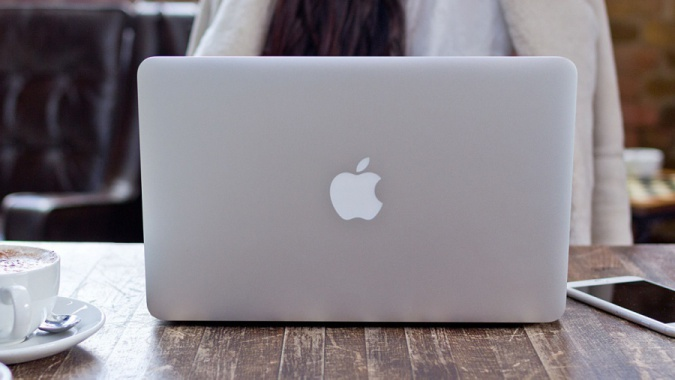apple: (321, 142, 403, 233)
